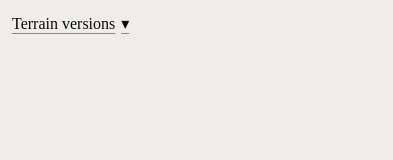
it: VersionsFold › shows a plain waiting state while the versions are worked out
The image size is (393, 160).
Click the button "Terrain versions ▾": (71,24) x1=12 y1=4 x2=129 y2=44
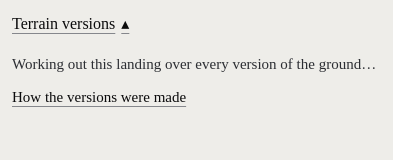
Check: the message reads "Working out this landing over every version of the ground…", box x1=12 y1=56 x2=376 y2=72
